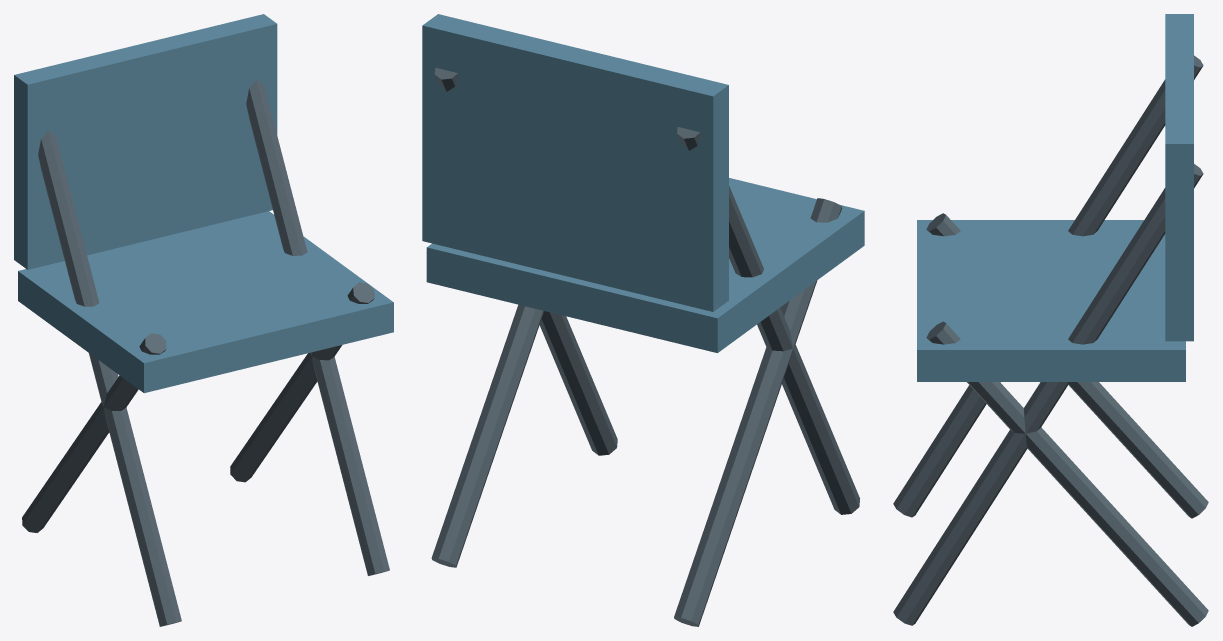
The model's file is football-soccer-club-grounds-folding-coach-chair-3a02f4ca.glb.
3 views of the same model, side by side, from view 1: azimuth 30°, elevation 25°; view 2: azimuth 150°, elevation 25°; view 3: azimuth 270°, elevation 25° (orthographic). The views are drawn at different scales.
Parts seen in each view (by area): view 1: folding-coach-chair; view 2: folding-coach-chair; view 3: folding-coach-chair.
Part boxes in pixels (x1,y1,x2,y2): folding-coach-chair: (14,14,393,626); folding-coach-chair: (422,14,864,626); folding-coach-chair: (893,14,1208,626).
Size of the model in its own units: 0.48 by 0.8477 by 0.4927.
